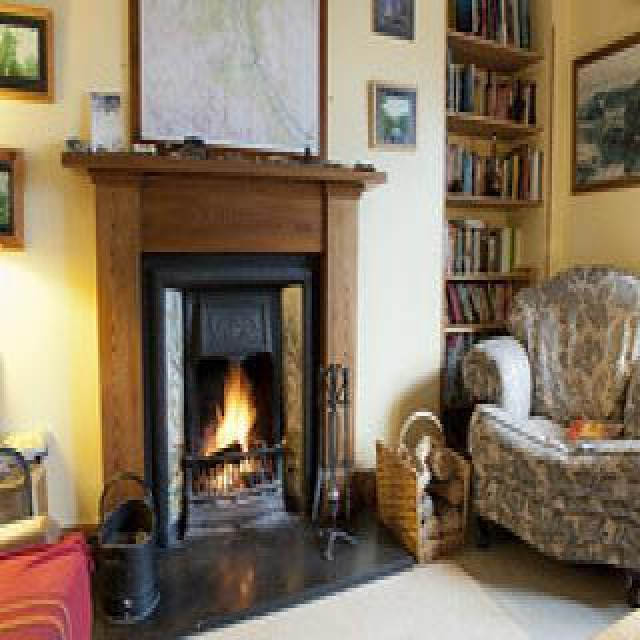Fire: (206, 342, 264, 464)
